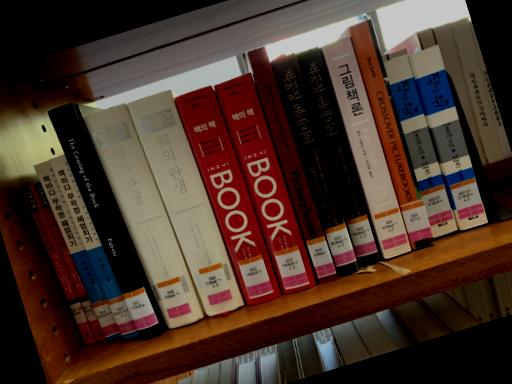book-spine: (83, 103, 204, 329), (47, 103, 162, 340), (127, 90, 244, 316), (173, 86, 281, 305), (214, 72, 317, 293), (247, 46, 338, 284), (321, 36, 411, 258), (349, 19, 434, 249), (272, 53, 359, 276), (296, 47, 380, 267), (49, 154, 139, 340), (33, 160, 122, 341), (410, 44, 488, 230), (384, 54, 457, 237), (21, 185, 95, 345), (32, 182, 105, 341)
